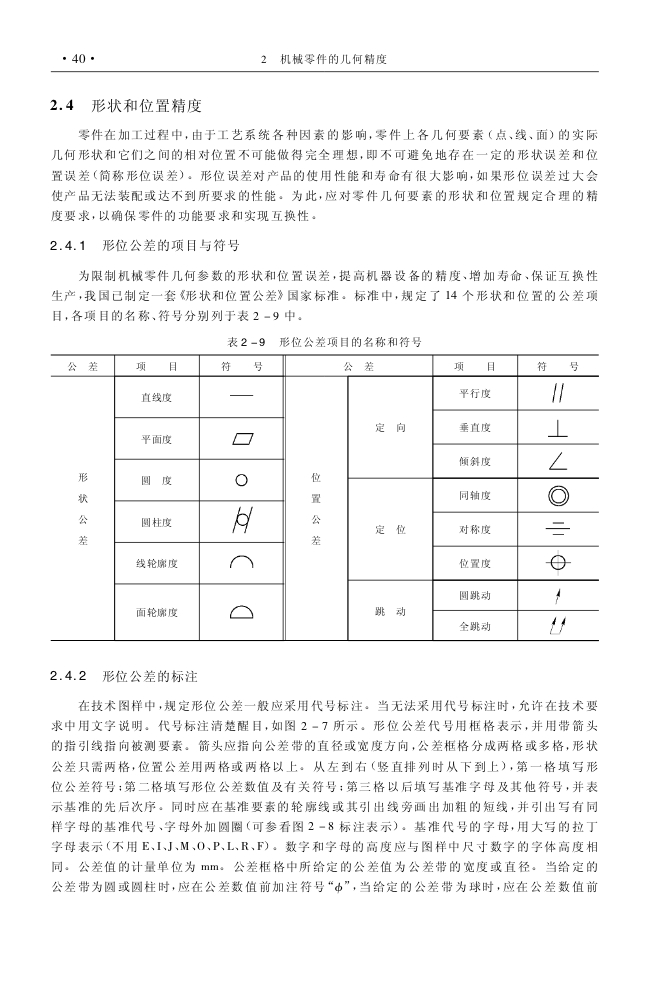table: (50, 354, 600, 641)
